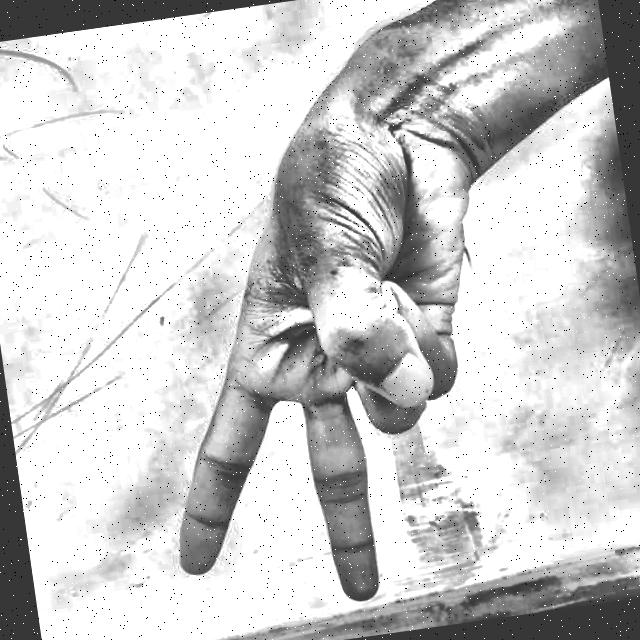Pa: (92, 45, 544, 640)
